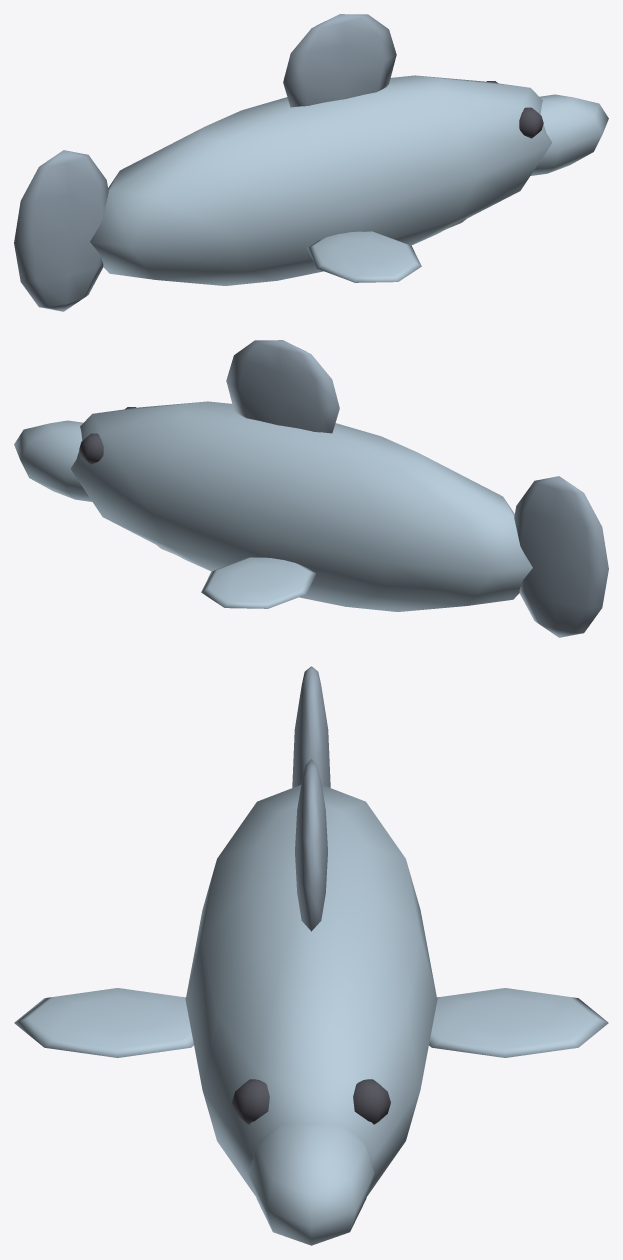
Rendered from shark-CrlsxQCe.glb.
3 renders of one model, top to bottom at view 1: azimuth 30°, elevation 25°; view 2: azimuth 150°, elevation 25°; view 3: azimuth 270°, elevation 25°, orthographic. The views are drawn at different scales.
Parts seen in each view (by area): view 1: body, tail, dorsal, pec_-1, snout, eye_-1; view 2: body, tail, dorsal, pec_1, snout, eye_1; view 3: body, snout, pec_-1, pec_1, dorsal, tail, eye_-1, eye_1.
Boxes of the visible parts, x1,y1,x2,y2 form: body: (90,75,552,285); tail: (14,150,108,311); dorsal: (283,14,396,107); pec_-1: (306,231,421,282); snout: (530,94,608,175); eye_-1: (519,107,543,138); body: (70,401,532,611); tail: (514,476,608,637); dorsal: (226,340,339,433); pec_1: (201,557,316,608); snout: (14,420,92,501); eye_1: (79,433,103,464); body: (185,785,437,1196); snout: (248,1123,374,1245); pec_-1: (14,988,193,1057); pec_1: (429,988,608,1057); dorsal: (295,759,327,931); tail: (292,666,330,787); eye_-1: (232,1079,269,1124); eye_1: (353,1079,390,1124).
Size of the model in its own units: 3.05 by 1.2 by 1.74.
